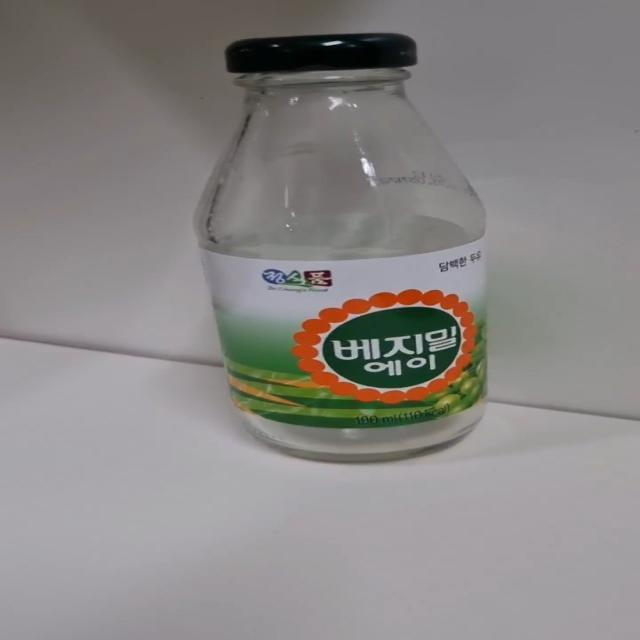Glass: (191, 32, 488, 466)
